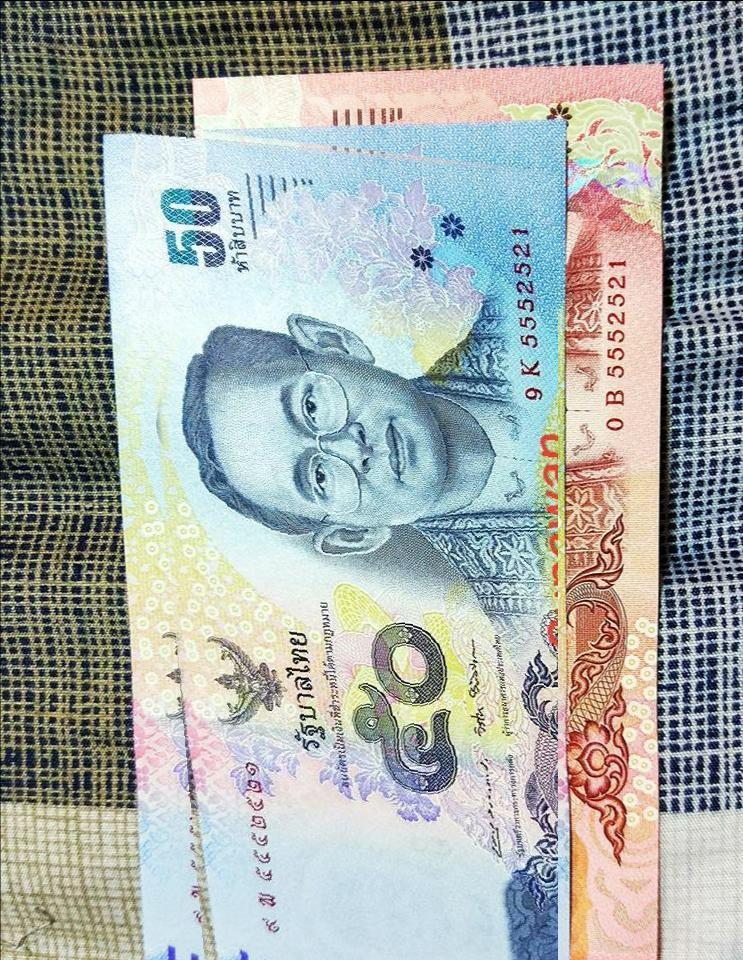50BahtTai: (131, 122, 559, 960)
